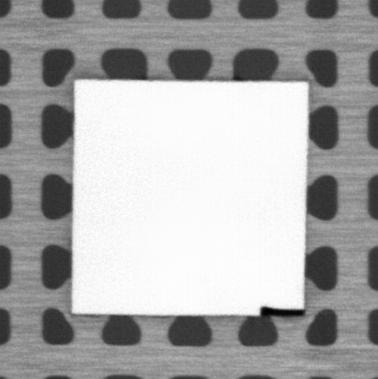DIE_BROKEN: (258, 304, 306, 319)
